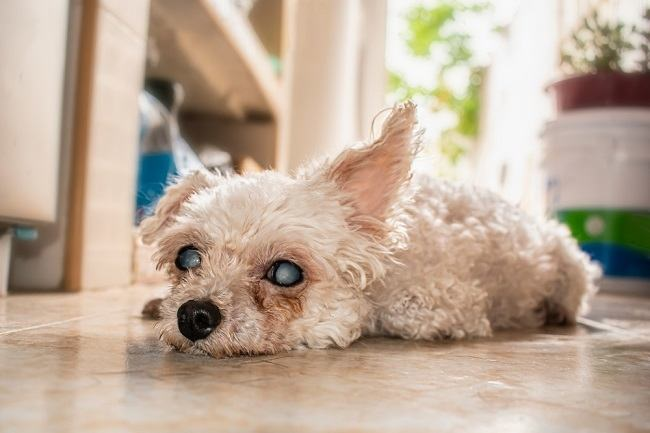anjing: (118, 94, 613, 365)
